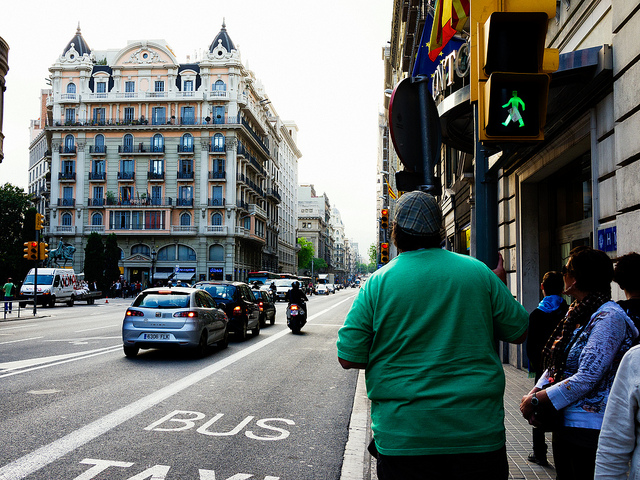Bike: (285, 282, 308, 328)
Car: (125, 289, 229, 361), (201, 280, 266, 344)
Person: (352, 194, 528, 480)
